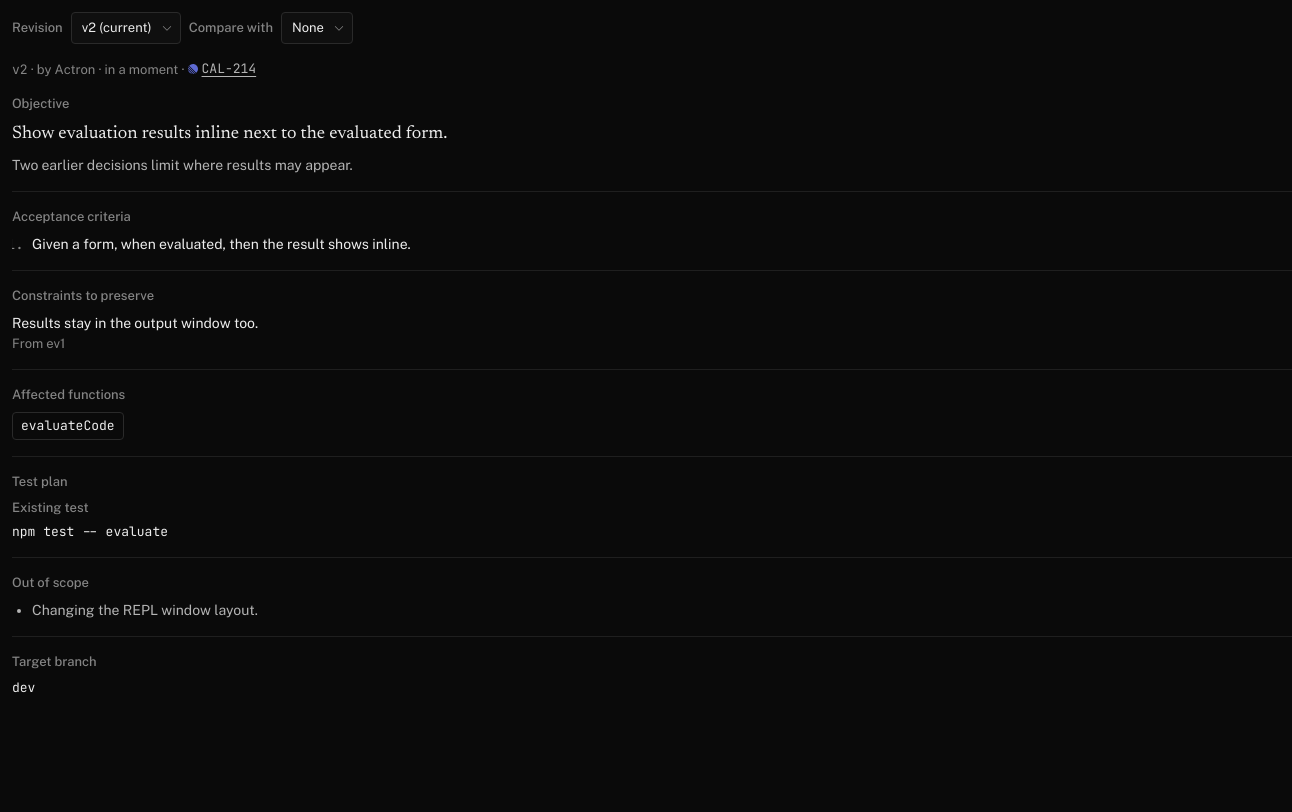
C-AC-8 TicketView › the revision selector and compare view show a field diff
Select "v1" in the dropdown labelled "Compare with": x=317, y=28 [281,12,353,44]
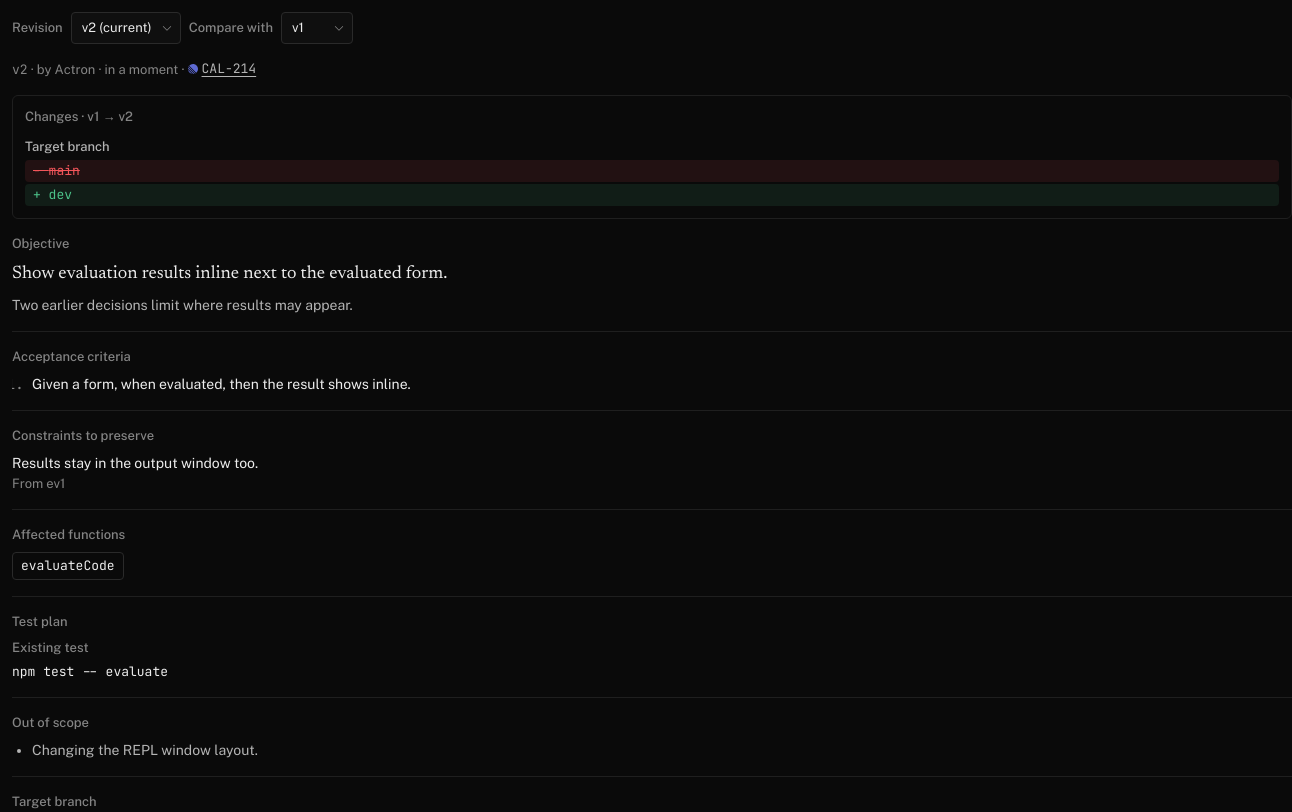
Now the element with test id "ticket-diff" shows "Changes · v1 → v2", box [12,95,1291,219]
Now the text "Target branch" is shown, box [25,139,110,154]
Select "v1" in the dropdown labelled "Revision": x=126, y=28 [71,12,181,44]
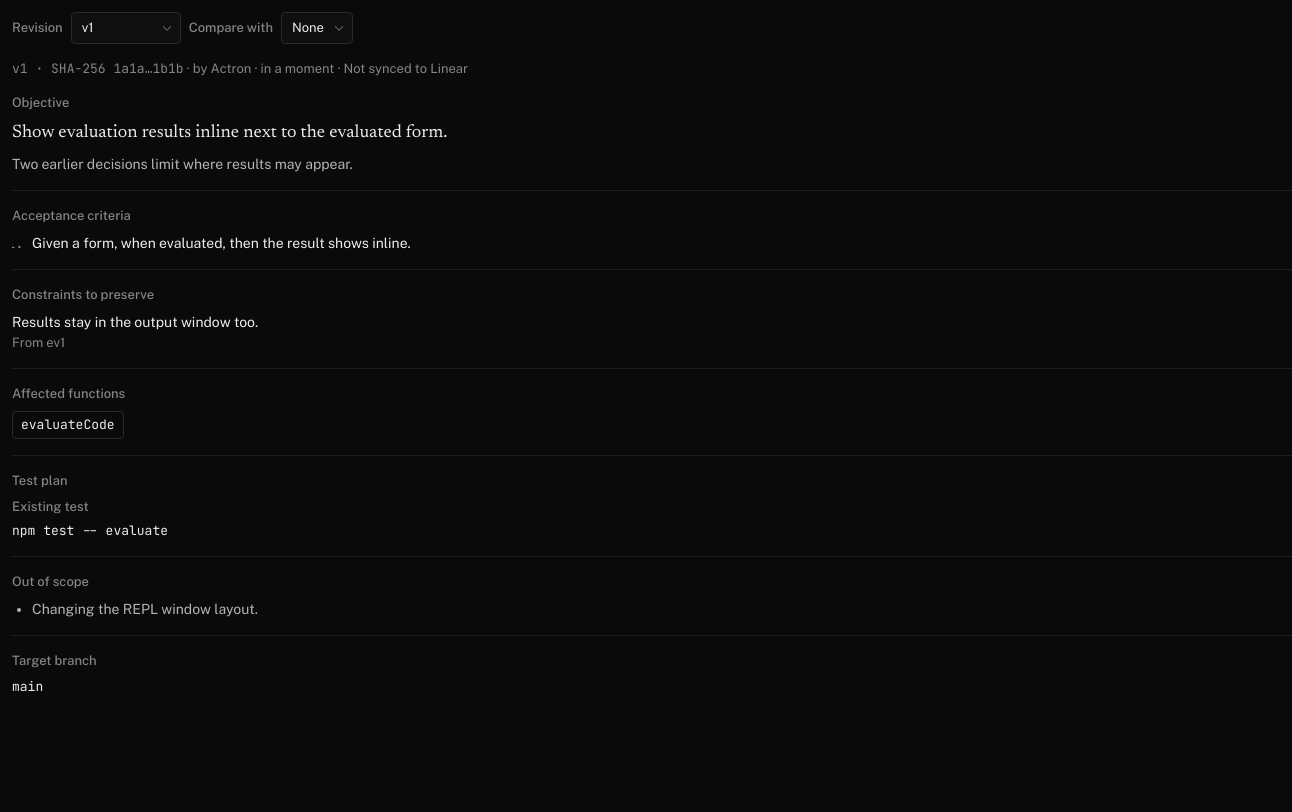
Now the element with test id "ticket-diff" is gone
Now the text "Not synced to Linear" is shown, box [334,61,468,76]
